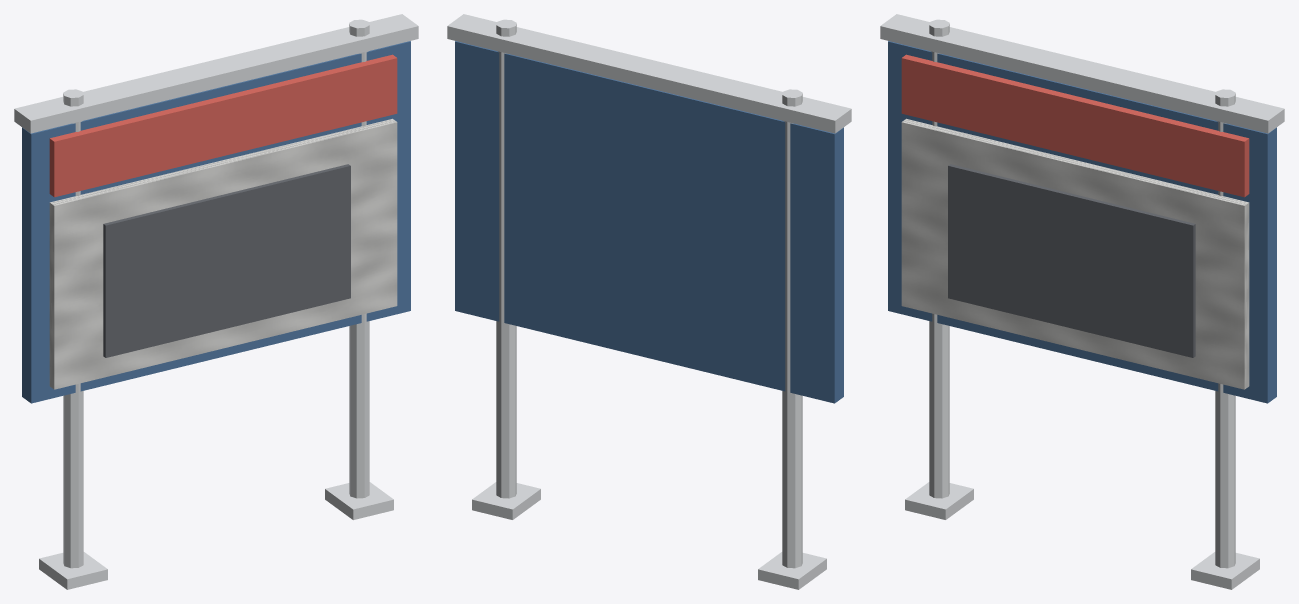
Rendered from cruise-ship-deck-and-lounge-cruise-ship-deck-and-loung-f0dcff28__38421.glb.
The picture shows the model from 3 angles, left to right: view 1: azimuth 30°, elevation 25°; view 2: azimuth 150°, elevation 25°; view 3: azimuth 330°, elevation 25°; orthographic projection.
Visible parts, largest first — view 1: cruise-ship-deck-and-lounge-muster-station-board; view 2: cruise-ship-deck-and-lounge-muster-station-board; view 3: cruise-ship-deck-and-lounge-muster-station-board.
Boxes of the visible parts, box(x1,y1,x2,y2) form: cruise-ship-deck-and-lounge-muster-station-board: box(14, 14, 418, 589); cruise-ship-deck-and-lounge-muster-station-board: box(447, 14, 851, 589); cruise-ship-deck-and-lounge-muster-station-board: box(880, 14, 1284, 589).
Bounding box in the file's own units: 1.9 × 2.25 × 0.2401.
5 materials, 1 textured.
